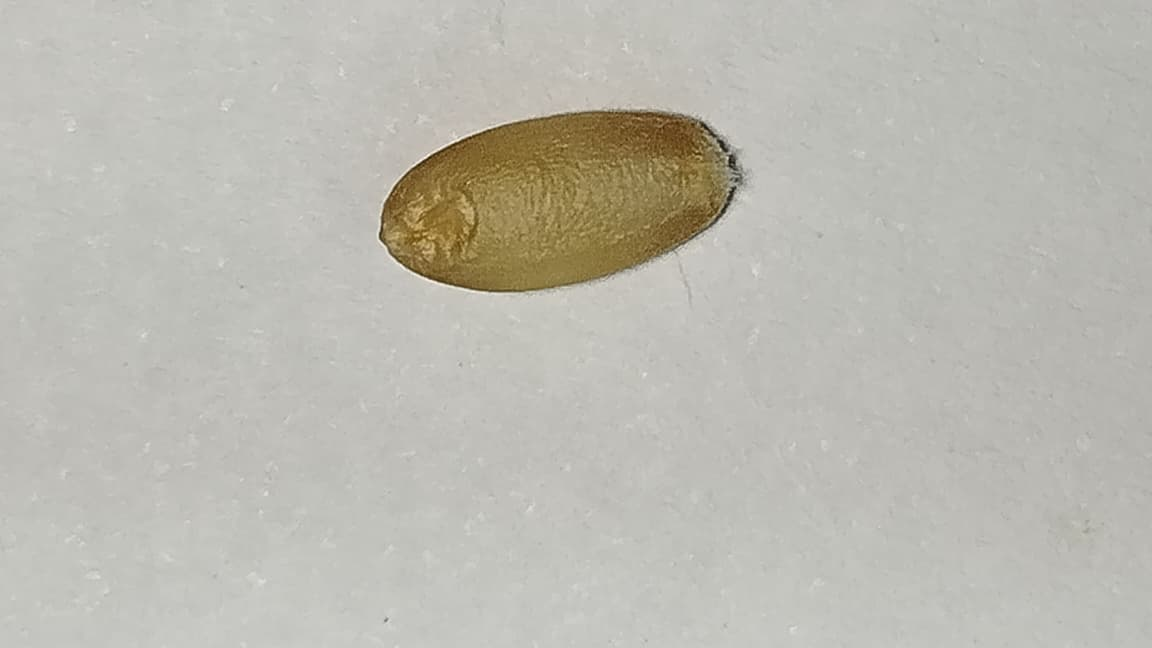healthy: (379, 108, 743, 292)
